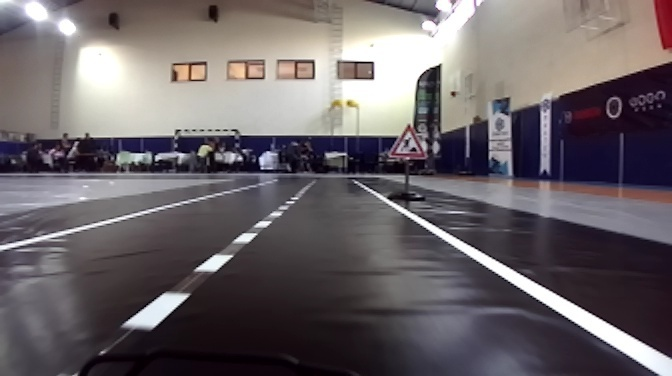yol_yapimi: (384, 122, 428, 160)
